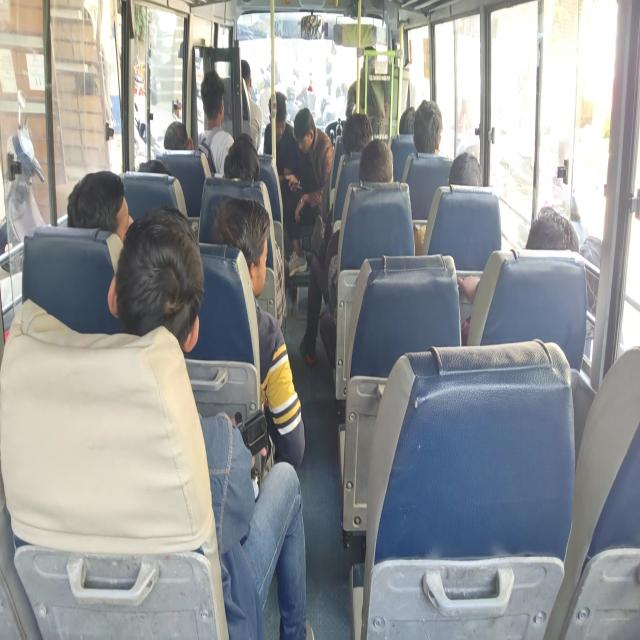person: (112, 210, 198, 346), (59, 179, 140, 249), (209, 198, 271, 286), (519, 193, 582, 275), (214, 152, 262, 198), (449, 146, 489, 197), (199, 82, 232, 140), (415, 98, 444, 156), (164, 127, 202, 167), (266, 88, 294, 139), (142, 146, 169, 188), (232, 52, 256, 93), (365, 144, 389, 182), (296, 117, 315, 153), (227, 128, 255, 152), (345, 122, 365, 154), (398, 108, 416, 143)
